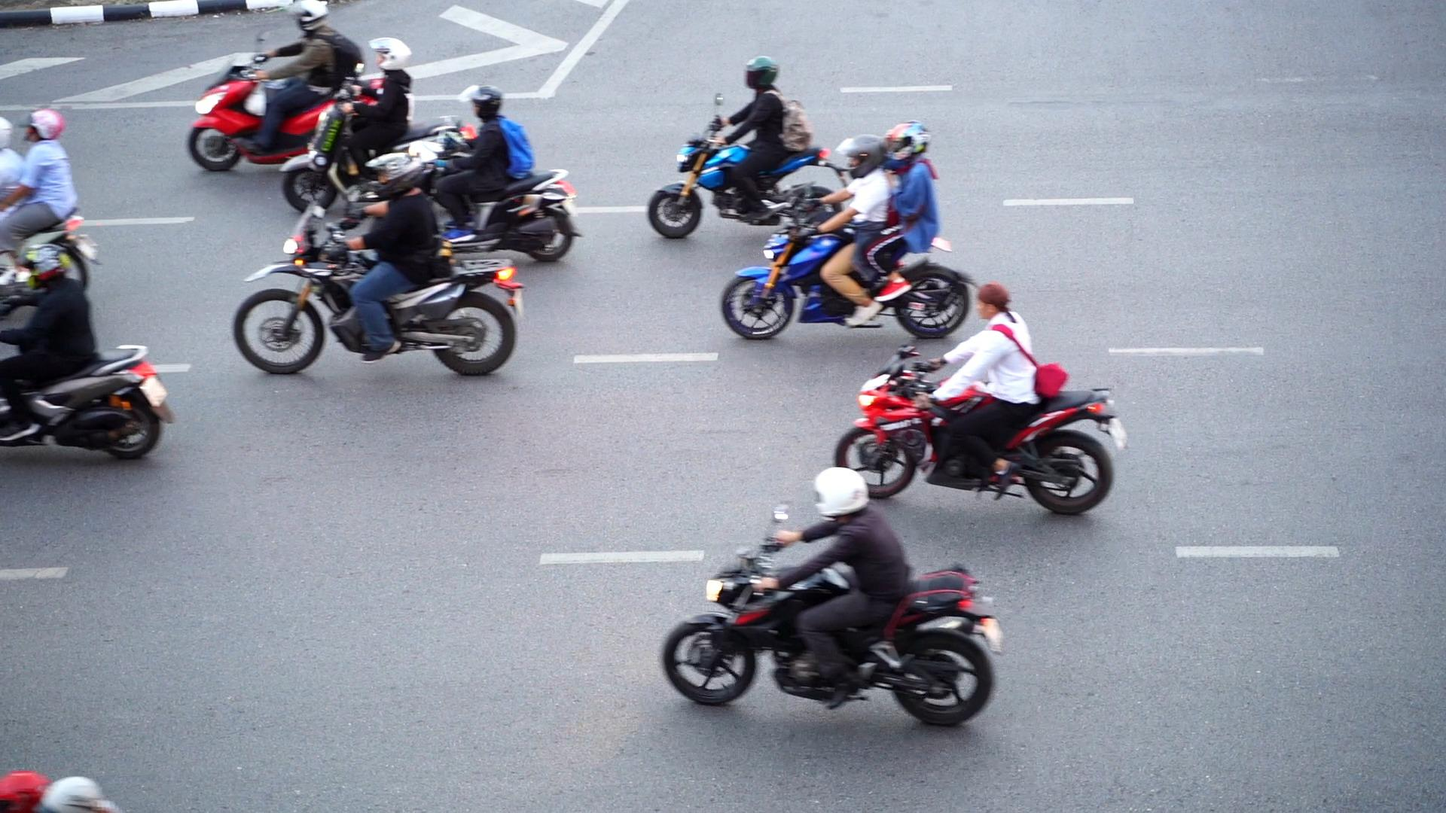driver: (663, 466, 1004, 727), (835, 281, 1128, 516), (233, 152, 524, 375), (721, 119, 981, 341), (0, 244, 175, 459), (279, 37, 479, 214), (188, 0, 384, 172), (647, 55, 830, 239), (408, 83, 584, 262)
helmet: (812, 466, 871, 522), (364, 153, 426, 198), (17, 245, 71, 291), (836, 134, 884, 179), (885, 119, 931, 162), (457, 83, 504, 119), (18, 108, 64, 143), (369, 37, 412, 71), (288, 0, 331, 32), (746, 55, 778, 90)
no-helmet: (974, 282, 1011, 320)
